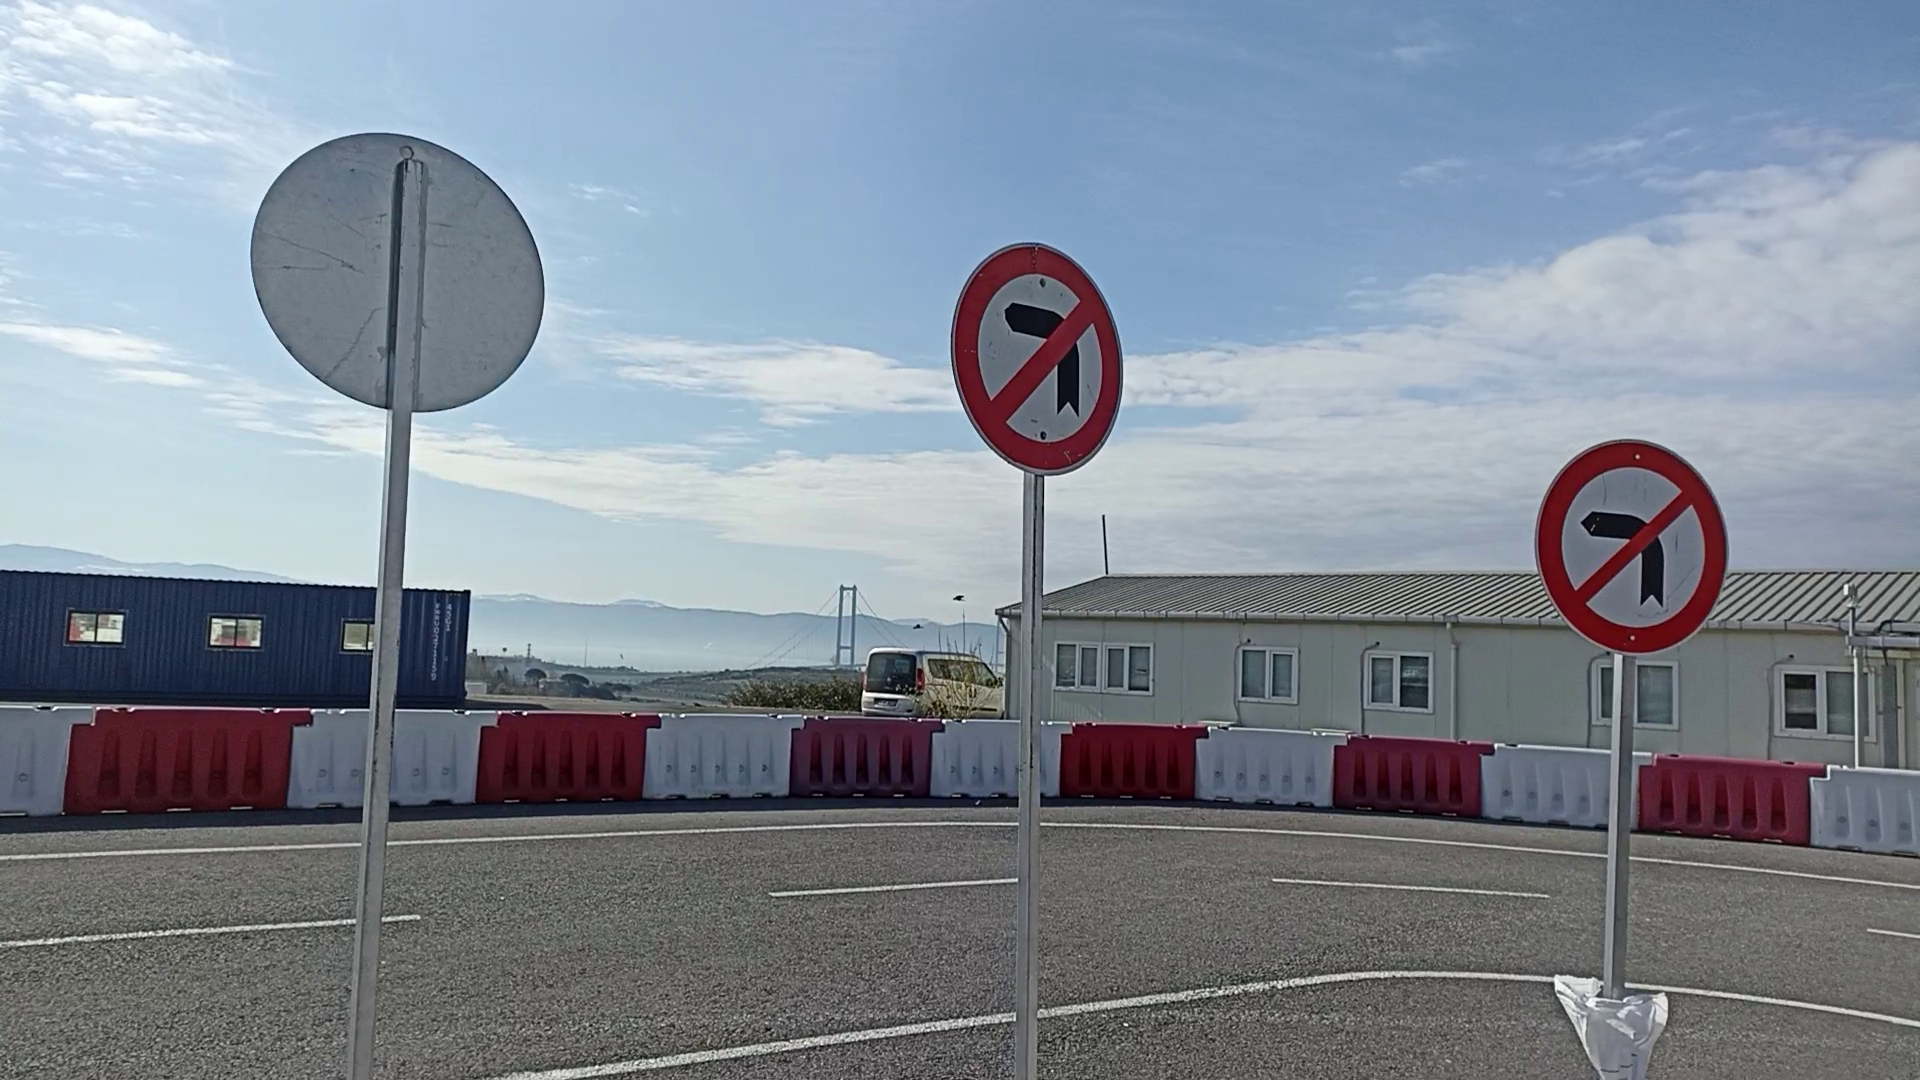noleft: (1531, 435, 1731, 659), (948, 239, 1127, 481)
